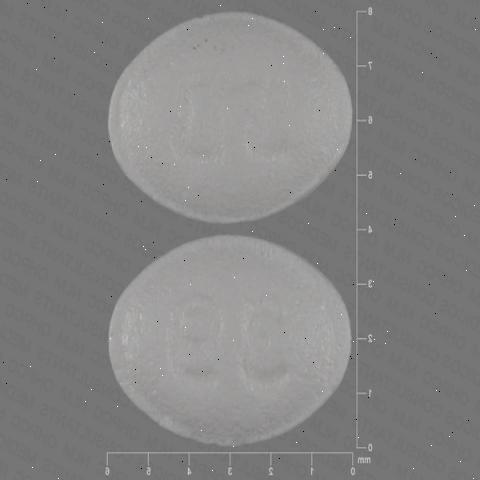Pill: (61, 10, 364, 227), (70, 235, 356, 450)
